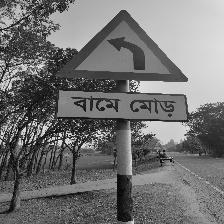Left-Turn: (53, 10, 189, 122)
